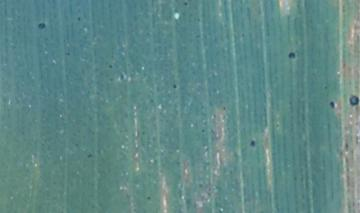tarspot: (348, 94, 360, 107), (286, 50, 298, 60), (36, 21, 46, 31), (328, 100, 337, 111), (248, 138, 256, 148), (85, 151, 94, 159), (62, 50, 72, 57), (118, 72, 125, 82), (321, 83, 329, 91), (343, 141, 349, 151), (182, 1, 190, 8), (106, 63, 114, 70), (145, 194, 152, 202), (200, 127, 207, 135), (172, 82, 178, 91), (76, 14, 82, 23), (240, 31, 246, 39), (221, 104, 227, 111)
